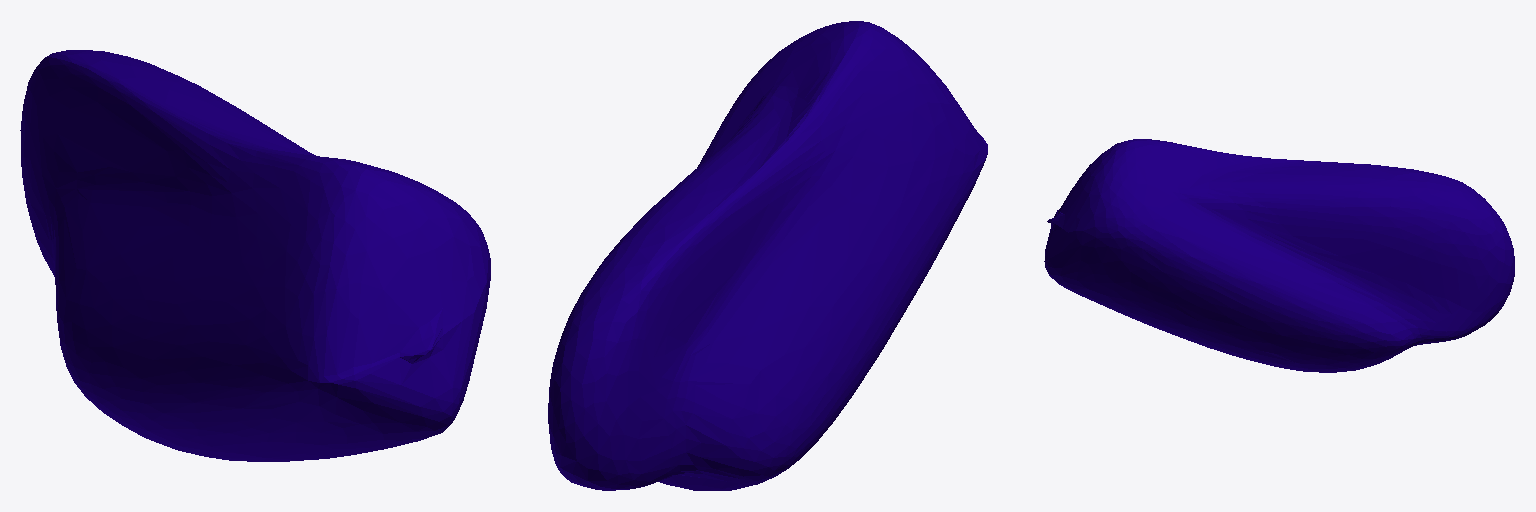
URDF robot description (blob885):

<robot name="blob885">
  <link name="random_obj_885">
    <contact>
      <lateral_friction value="1.0"/>
      <rolling_friction value="0.0"/>
      <inertia_scaling value="3.0"/>
      <contact_cfm value="0.0"/>
      <contact_erp value="1.0"/>
    </contact>
    <inertial>
      <origin rpy="0 0 0" xyz="0 0 0"/>
      <mass value="0.0587"/>
      <inertia ixx="1" ixy="0" ixz="0" iyy="1" iyz="0" izz="0"/>
    </inertial>
    <visual>
      <origin rpy="0 0 0" xyz="0 0 0"/>
      <geometry>
        <mesh filename="885.obj" scale="0.0085 0.0085 0.0085"/>
      </geometry>
      <material name="blockmat">
        <color rgba="0.16 0.02 0.53 1"/>
      </material>
    </visual>
    <collision>
      <origin rpy="0 0 0" xyz="0 0 0"/>
      <geometry>
        <mesh filename="885_coll.obj" scale="0.0085 0.0085 0.0085"/>
      </geometry>
    </collision>
  </link>
</robot>

--- What the picture shows (computed from the rendered views, not written in the file) ---
The picture shows the robot from 3 angles, left to right: view 1: azimuth 30°, elevation 25°; view 2: azimuth 150°, elevation 25°; view 3: azimuth 270°, elevation 25°; orthographic projection.
Robot: blob885 — 1 links, 0 joints (none); root link random_obj_885; default pose: all joints at 0.
Visible links, largest first — view 1: random_obj_885; view 2: random_obj_885; view 3: random_obj_885.
Boxes of the visible links, x1,y1,x2,y2 form: random_obj_885: [20, 50, 490, 461]; random_obj_885: [548, 21, 987, 490]; random_obj_885: [1044, 139, 1514, 372].
Size in the robot's own frame: 0.0467 by 0.1373 by 0.0733 metres.
Meshes: 1 distinct files referenced, 1 mesh visuals loaded (1 OBJ).
